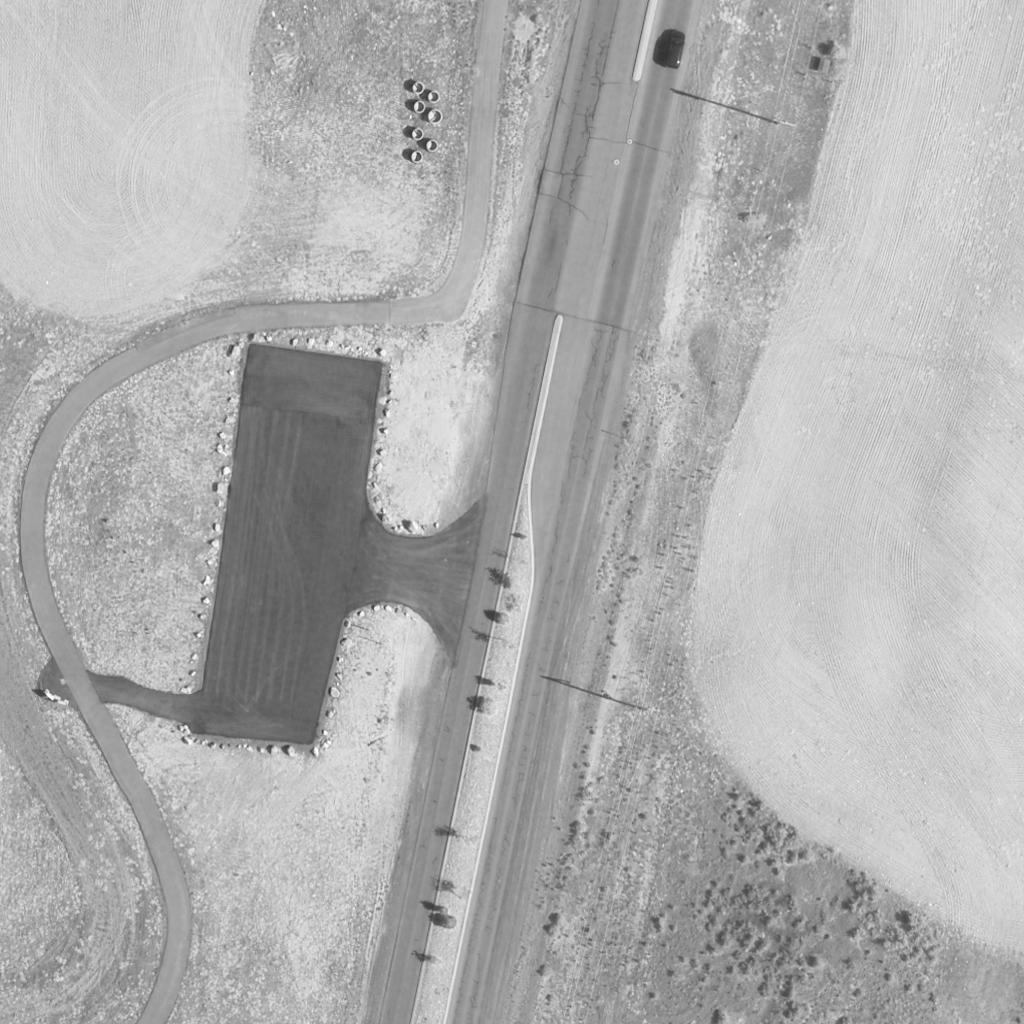vehicle: (666, 30, 686, 70)
